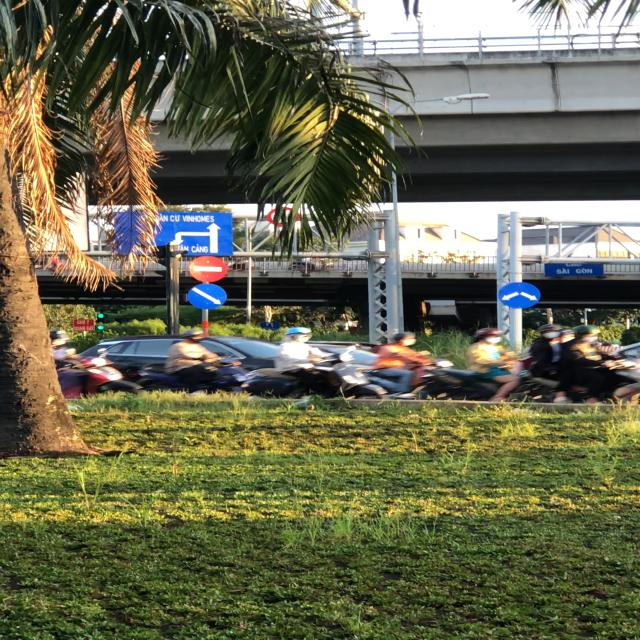Bien bao cam di nguoc chieu: (189, 254, 231, 284)
Bien bao huong phai di vong chuong ngai vat: (184, 282, 236, 312), (494, 280, 544, 309)
